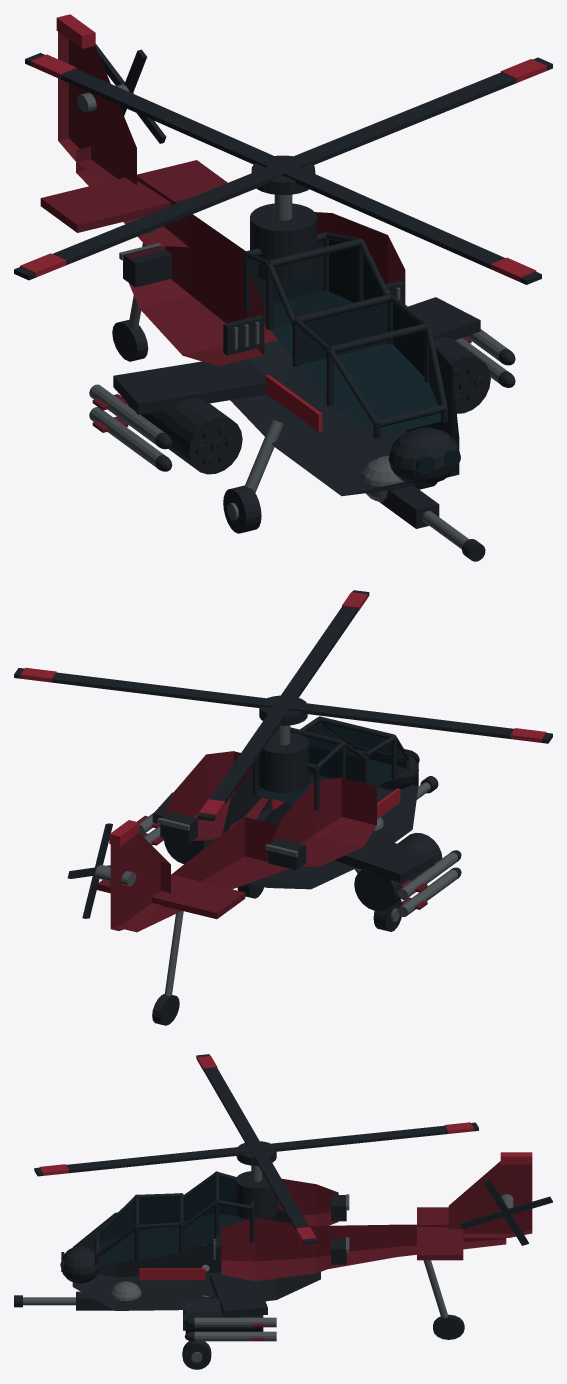
File: helicopter.glb
The picture shows the model from 3 angles, top to bottom: view 1: azimuth 30°, elevation 25°; view 2: azimuth 150°, elevation 25°; view 3: azimuth 270°, elevation 25°; orthographic projection. The views are drawn at different scales.
Parts seen in each view (by area): view 1: Fuselage, Main rotor blades, Chain gun, Tail rotor blades; view 2: Fuselage, Main rotor blades, Tail rotor blades; view 3: Fuselage, Main rotor blades, Tail rotor blades, Chain gun.
Boxes of the visible parts, x1,y1,x2,y2 form: Fuselage: [40, 14, 515, 533]; Main rotor blades: [14, 53, 552, 284]; Chain gun: [379, 486, 485, 561]; Tail rotor blades: [77, 44, 166, 143]; Fuselage: [97, 716, 461, 1025]; Main rotor blades: [14, 590, 552, 821]; Tail rotor blades: [67, 823, 136, 918]; Fuselage: [60, 1152, 532, 1369]; Main rotor blades: [34, 1054, 478, 1244]; Tail rotor blades: [459, 1179, 552, 1245]; Chain gun: [14, 1291, 113, 1310].
Size of the model in its own units: 2.01 by 0.96 by 2.43.
